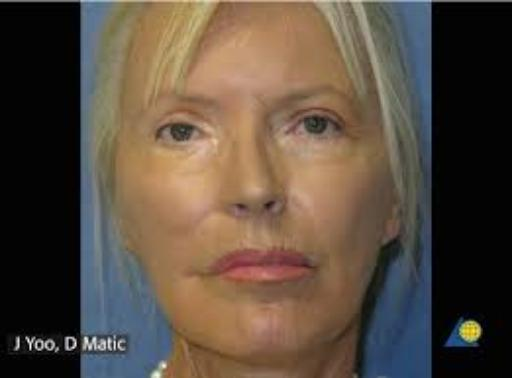left_eye: (284, 115, 346, 142)
left_lip_corner: (301, 260, 326, 280)
right_eye: (154, 120, 213, 145)
right_lip_corner: (184, 264, 229, 283)
